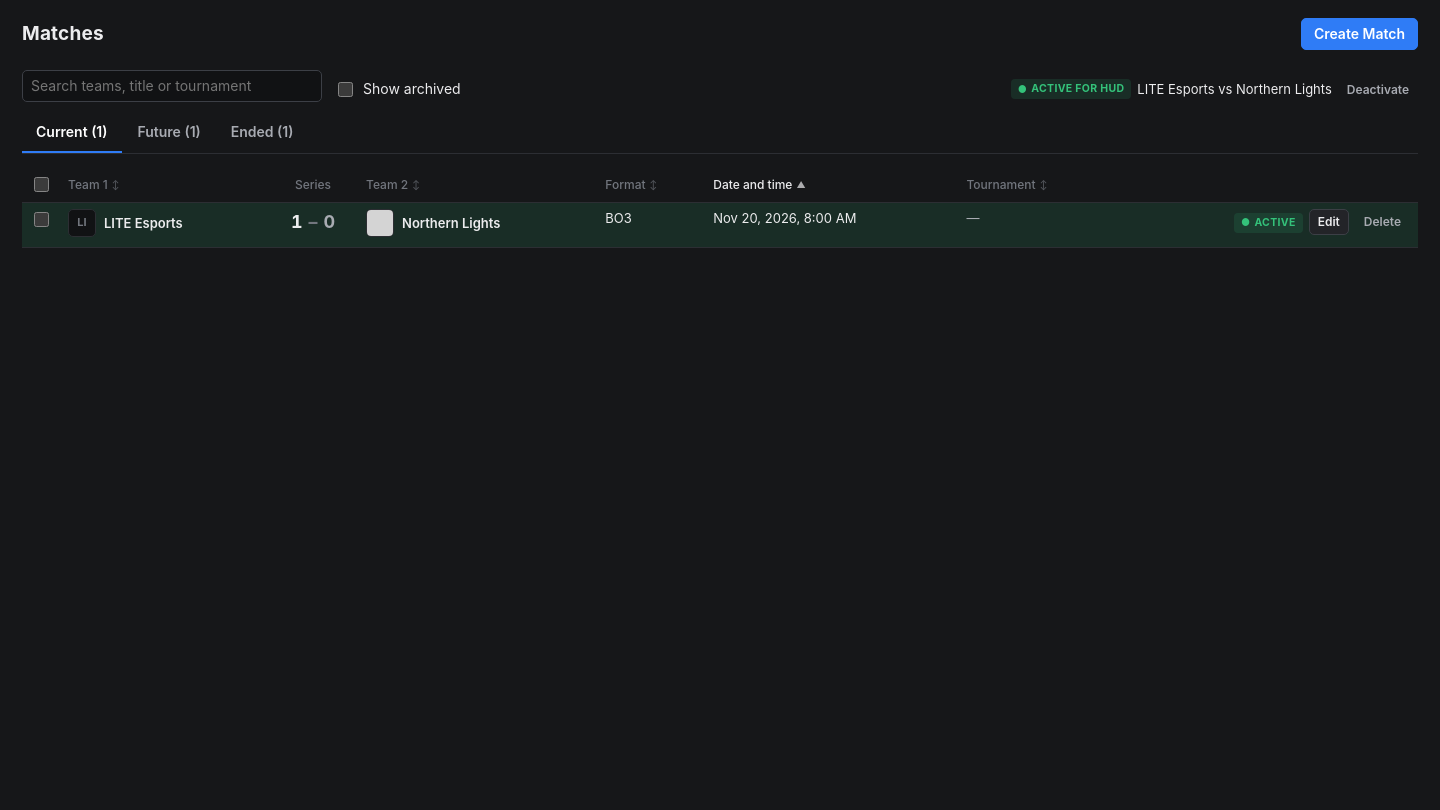
Scenario: Matches: list › groups matches into Current, Future and Ended (independent of Active) and makes another match active
The image size is (1440, 810).
Check: the tab "Current (1)" is shown, box [22,114,122,153]
Check: the tab "Ended (1)" is shown, box [217,114,308,153]
Step 1. Click the tab "Future (1)" → (169, 133), box [124,114,215,153]
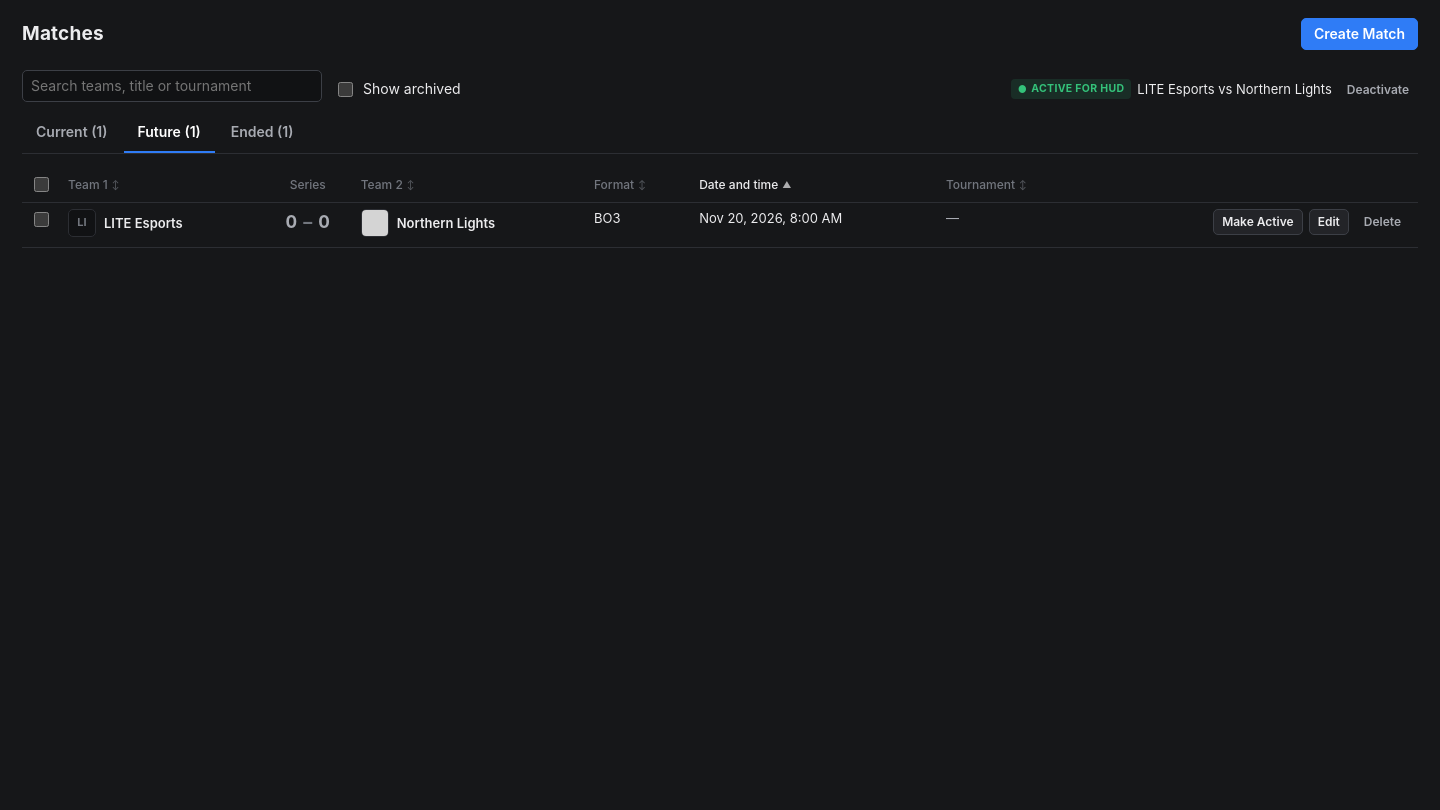
Check: the text "BO3" is shown, box [586,202,691,247]
Step 2. Click the button "Make Active" → (1258, 222), box [1213,209,1303,235]
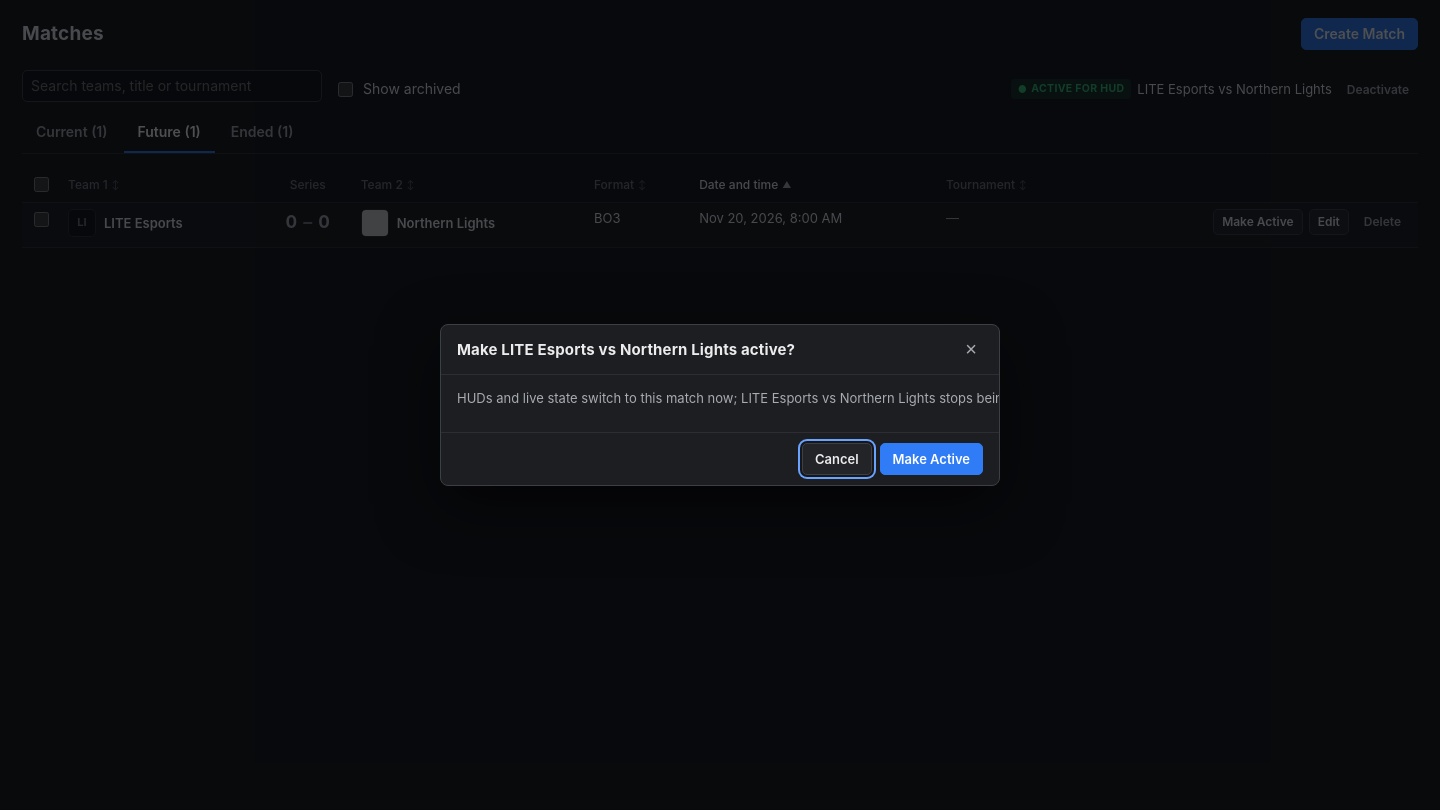
Check: the text "stops being active" is shown, box [457,390,999,406]
Step 3. Click the 2nd button "Make Active" → (931, 459), box [880,443,983,475]
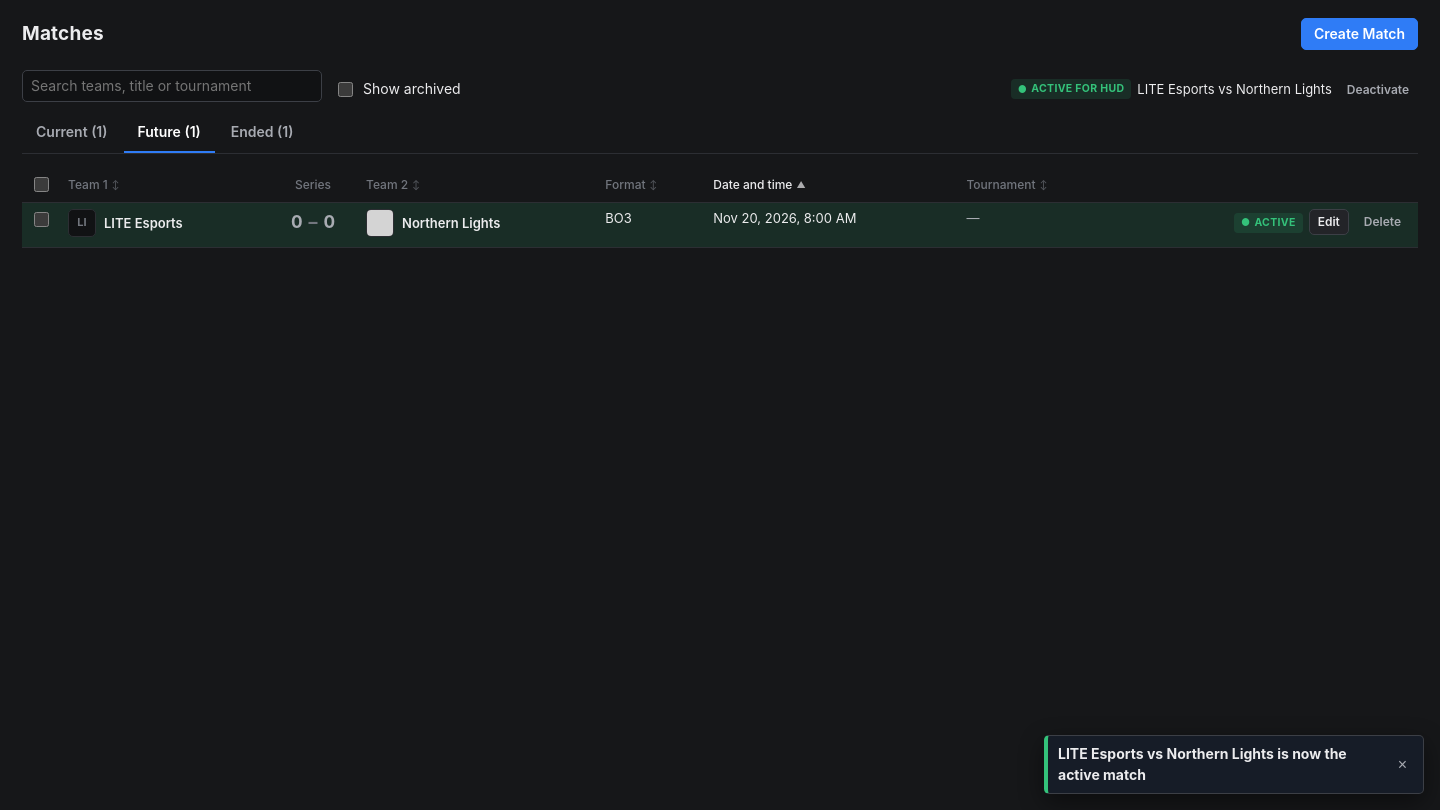
Check: the tab "Future (1)" is shown, box [124,114,215,153]
Check: the text "Active" is shown, box [1254,216,1296,229]
